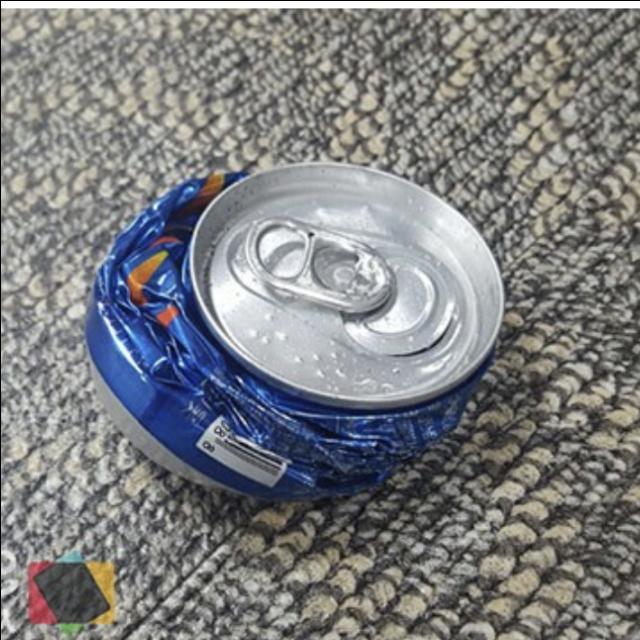can: (72, 130, 508, 528)
